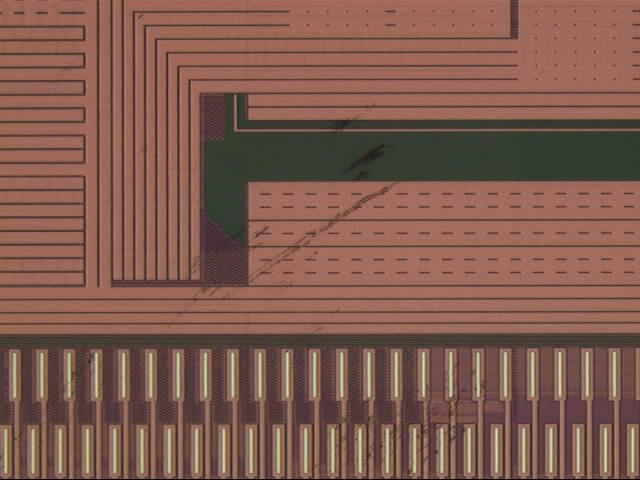SCRATCH: (5, 95, 498, 480)
